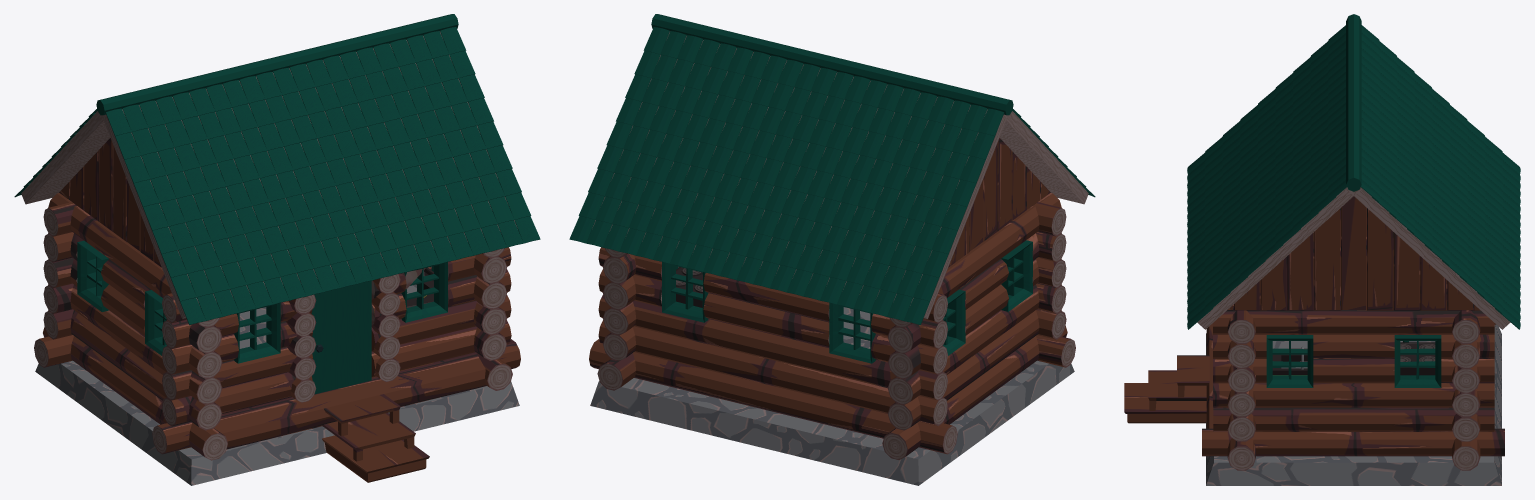
Rendered from CASA.fbx.
3 renders of one model, left to right at view 1: azimuth 30°, elevation 25°; view 2: azimuth 150°, elevation 25°; view 3: azimuth 270°, elevation 25°, orthographic. The views are drawn at different scales.
Parts seen in each view (by area): view 1: plataforma, madeira frente, telha frente.008, telha frente.002, telha frente, telha frente.005, telha frente.006, telha frente.007, telha frente.003, telha frente.001, telha frente.004, porta (+37 smaller); view 2: plataforma, telha tras.008, telha tras.002, telha tras, telha tras.005, telha tras.006, telha tras.007, telha tras.003, telha tras.001, telha tras.004, parede tras, parede tras.001 (+29 smaller); view 3: parede sotão D, plataforma, parede_D.007, parede_D.006, parede_D.001, parede_D, teto, parede_D.002, telha tras.008, telha frente.004, telha tras.002, telha tras.007 (+37 smaller).
Boxes of the visible parts, x1,y1,x2,y2 form: plataforma: (35,307,519,485); madeira frente: (152,339,520,454); telha frente.008: (105,27,466,136); telha frente.002: (161,169,521,277); telha frente: (180,216,540,324); telha frente.005: (133,98,493,206); telha frente.006: (124,74,484,183); telha frente.007: (115,51,475,159); telha frente.003: (152,145,512,254); telha frente.001: (170,192,531,301); telha frente.004: (143,122,503,230); porta: (311,280,371,394); plataforma: (590,307,1074,485); telha tras.008: (643,27,1004,136); telha tras.002: (588,169,948,277); telha tras: (569,216,929,324); telha tras.005: (616,98,976,206); telha tras.006: (625,74,985,183); telha tras.007: (634,51,994,159); telha tras.003: (597,145,957,254); telha tras.001: (578,192,939,301); telha tras.004: (606,122,966,230); parede tras: (589,339,957,454); parede tras.001: (598,320,947,426); parede sotão D: (1227,196,1480,310); plataforma: (1206,324,1501,485); parede_D.007: (1202,428,1504,456); parede_D.006: (1213,407,1494,431); parede_D.001: (1213,310,1494,334); parede_D: (1213,383,1494,407); teto: (1197,187,1510,329); parede_D.002: (1213,334,1494,358); telha tras.008: (1361,25,1379,202); telha frente.004: (1257,89,1282,265); telha tras.002: (1459,121,1485,297); telha tras.007: (1372,41,1397,217).
Bounding box in the file's own units: 2751 × 2462 × 2816.
15 materials, 11 textured.
